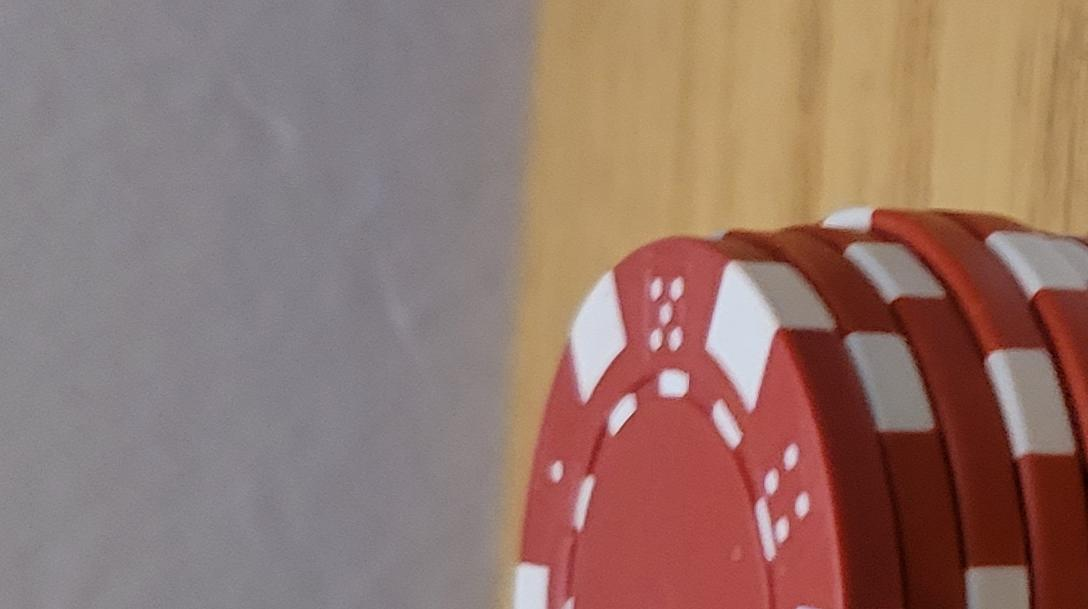Chip: (1, 321, 738, 609)
